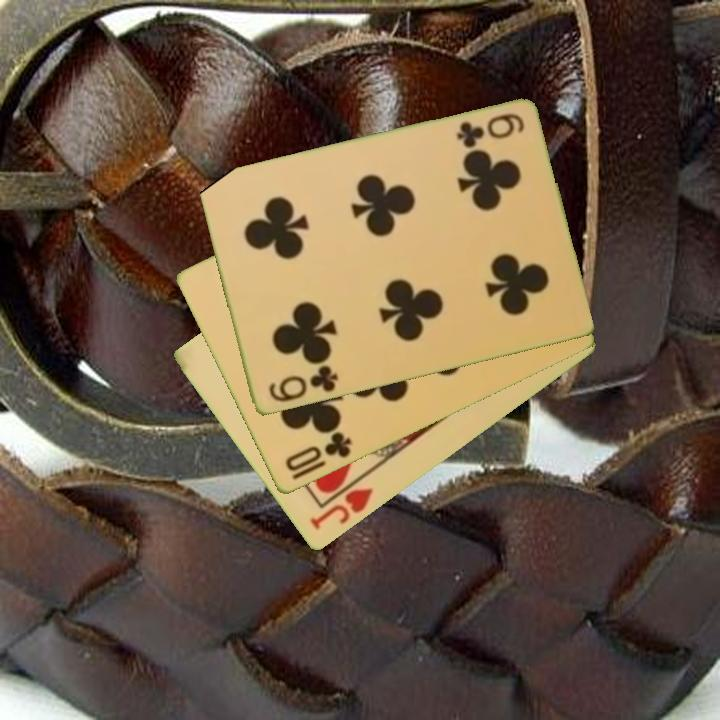10c: (281, 428, 354, 475)
6c: (265, 362, 341, 406), (453, 110, 527, 151)
Jh: (306, 485, 377, 534)
